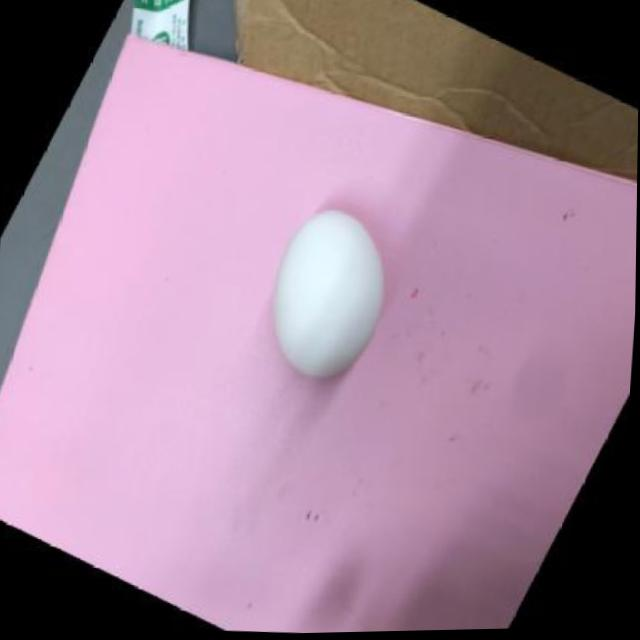egg: (261, 198, 401, 386)
